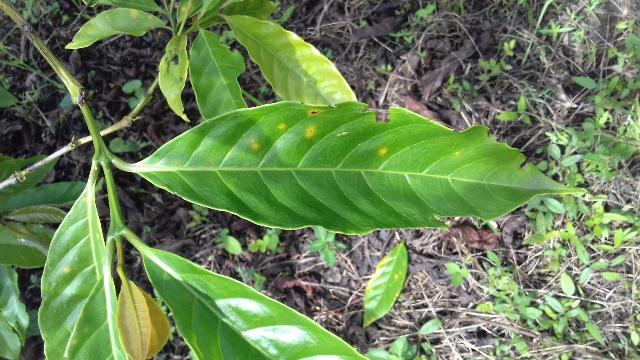rust_level_1: (135, 99, 585, 234)
